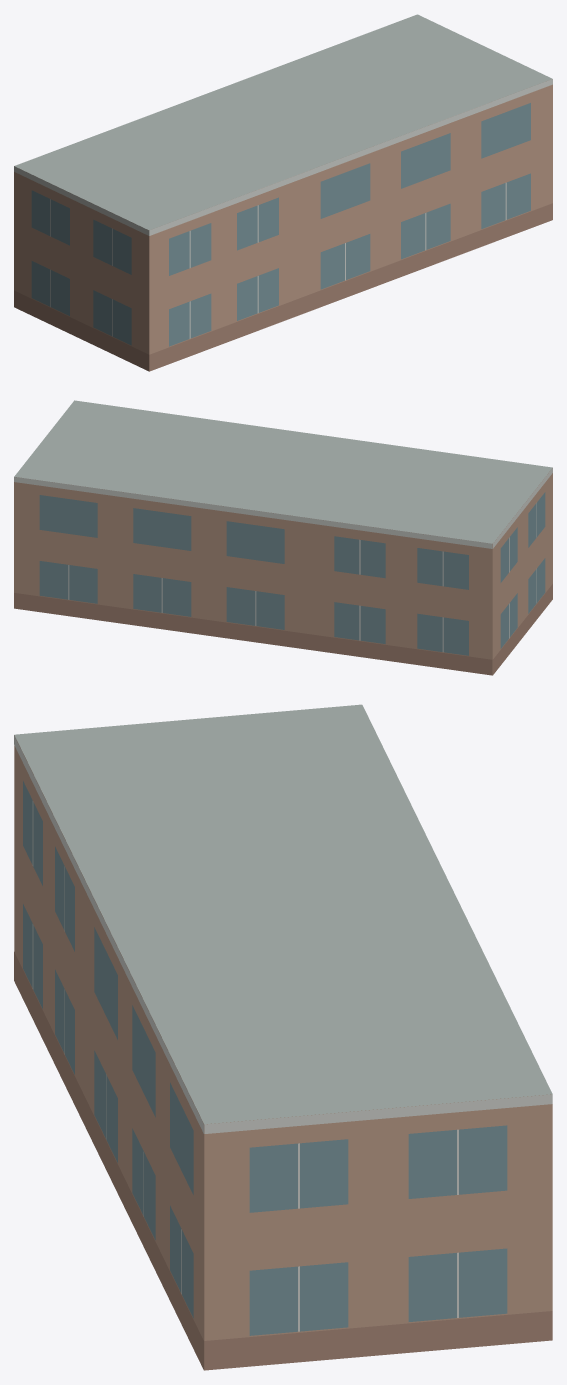
Rendered from survey-upis-32696557.glb.
The picture shows the model from 3 angles, top to bottom: view 1: azimuth 30°, elevation 25°; view 2: azimuth 150°, elevation 25°; view 3: azimuth 270°, elevation 25°; orthographic projection. The views are drawn at different scales.
Visible parts, largest first — view 1: survey-upis-32696557.tmp; view 2: survey-upis-32696557.tmp; view 3: survey-upis-32696557.tmp.
Boxes of the visible parts, x1,y1,x2,y2 form: survey-upis-32696557.tmp: (14,14,552,371); survey-upis-32696557.tmp: (14,400,552,675); survey-upis-32696557.tmp: (14,704,552,1370).
Size of the model in its own units: 22.33 by 6.1 by 12.11.
